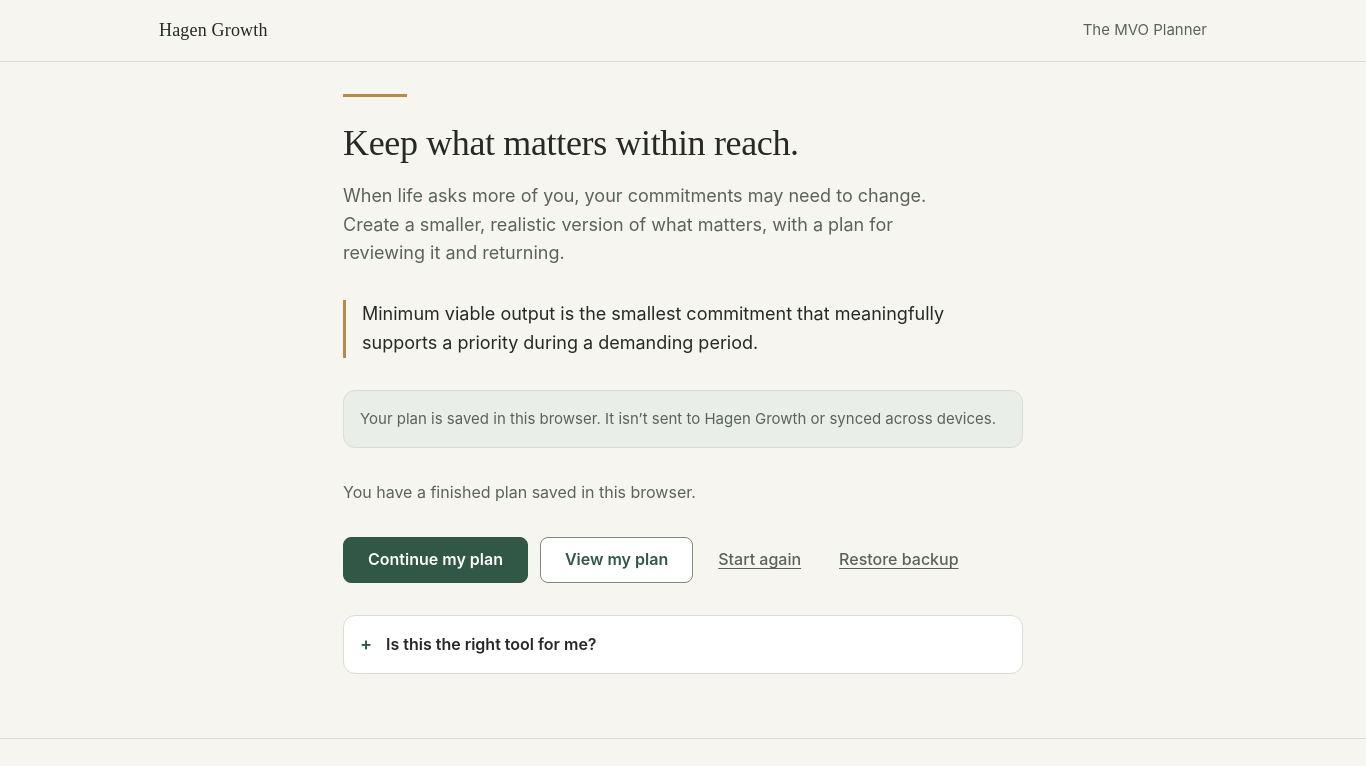
Test case: finished plan actions › restores a backup after confirmation
Later steps or results of the test are not shown.
Click the button "Continue my plan": (436, 560) 343,537 -> 528,583
(page scrolled)
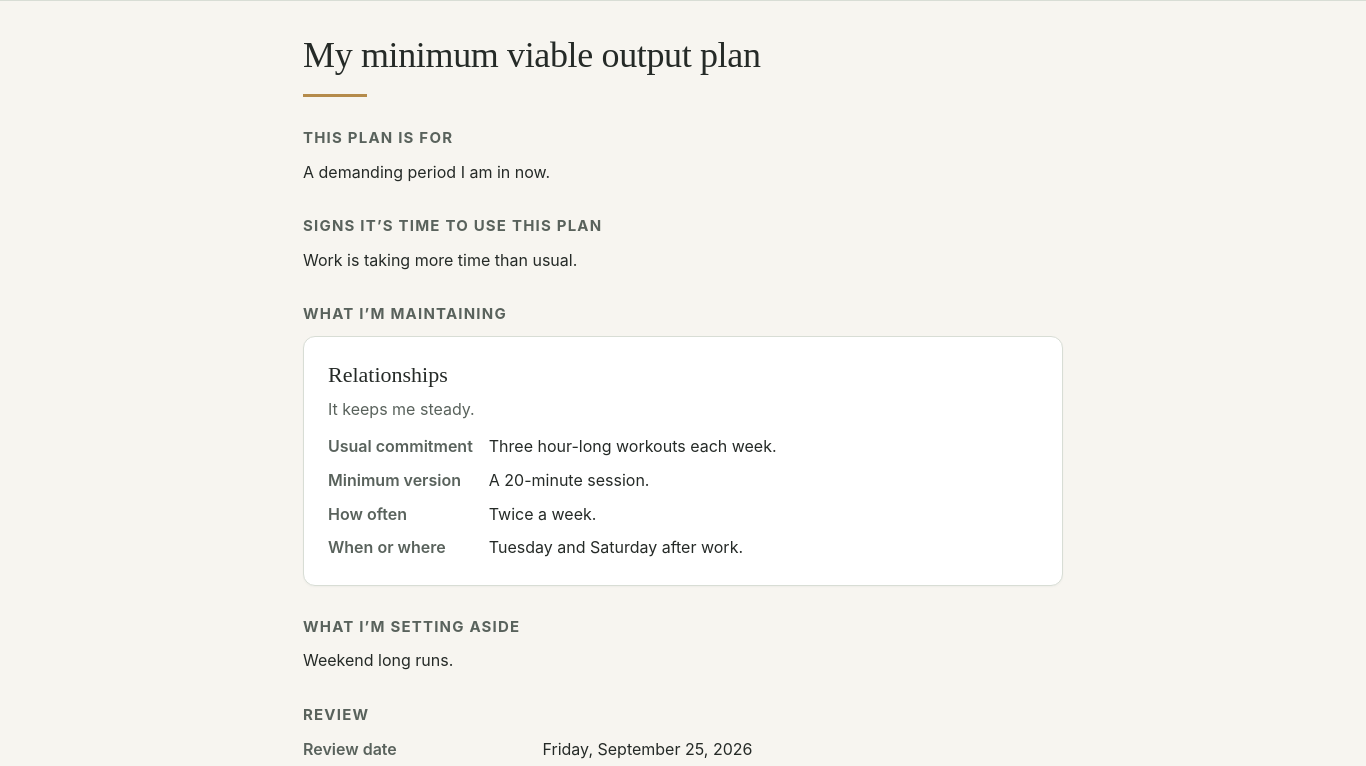
Result: the heading "My minimum viable output plan" is shown at 303,35 -> 760,75
Result: the heading "Relationships" is shown at 328,361 -> 448,389
